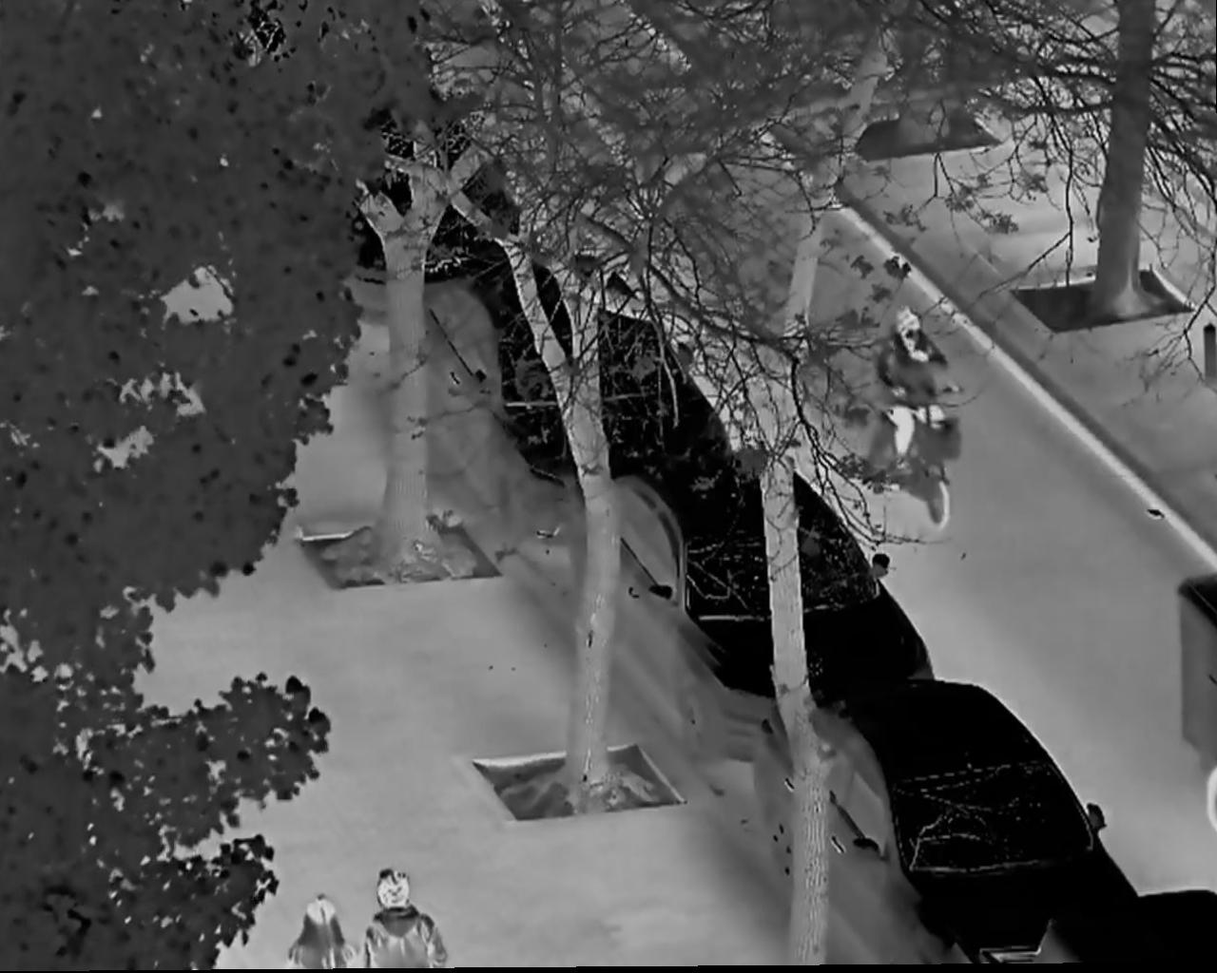person: (879, 313, 958, 489), (361, 868, 444, 973), (279, 901, 363, 973)
